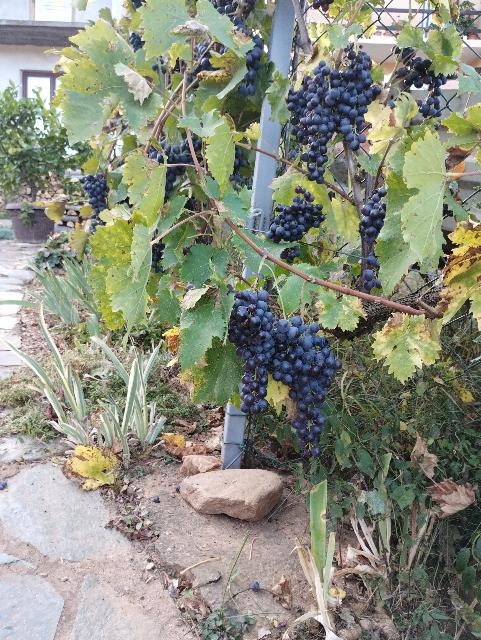grapes: (288, 46, 381, 182), (270, 316, 342, 459), (229, 290, 275, 415), (266, 186, 326, 244), (82, 174, 110, 232)
